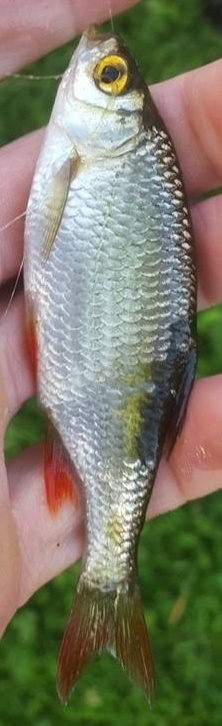Rutilus rutilus: (20, 20, 202, 706)
